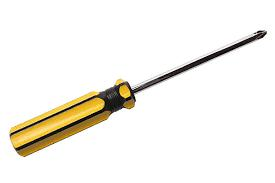screwdriver: (9, 28, 267, 155)
